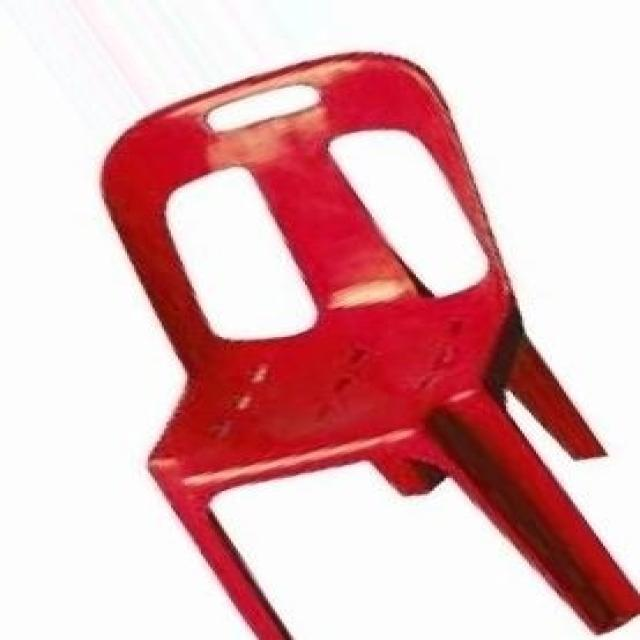chair: (94, 50, 640, 640)
